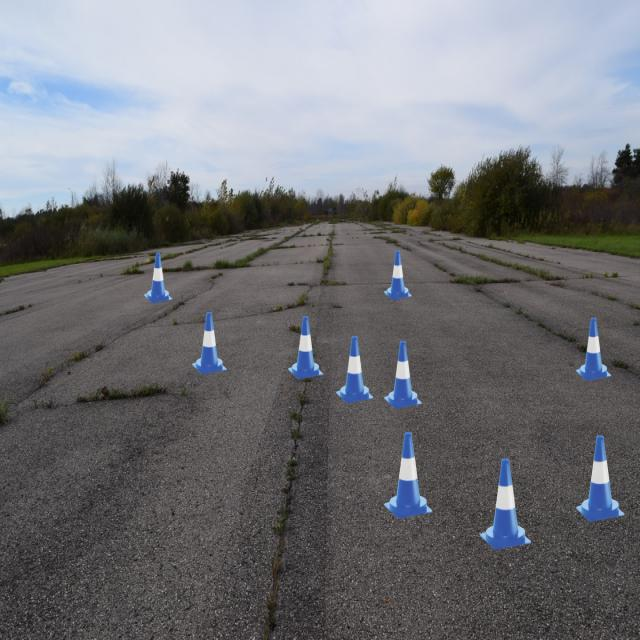blue_cone: (480, 458, 531, 550), (576, 435, 625, 522), (384, 432, 433, 518), (384, 341, 422, 409), (336, 336, 373, 403), (288, 316, 323, 379), (576, 318, 611, 380), (192, 312, 227, 374), (144, 253, 172, 303), (384, 250, 412, 300)
